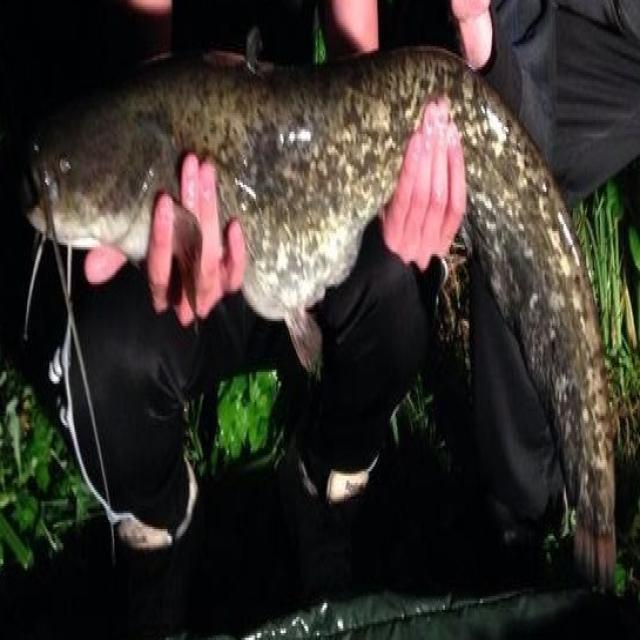Catfish: (19, 52, 632, 614)
